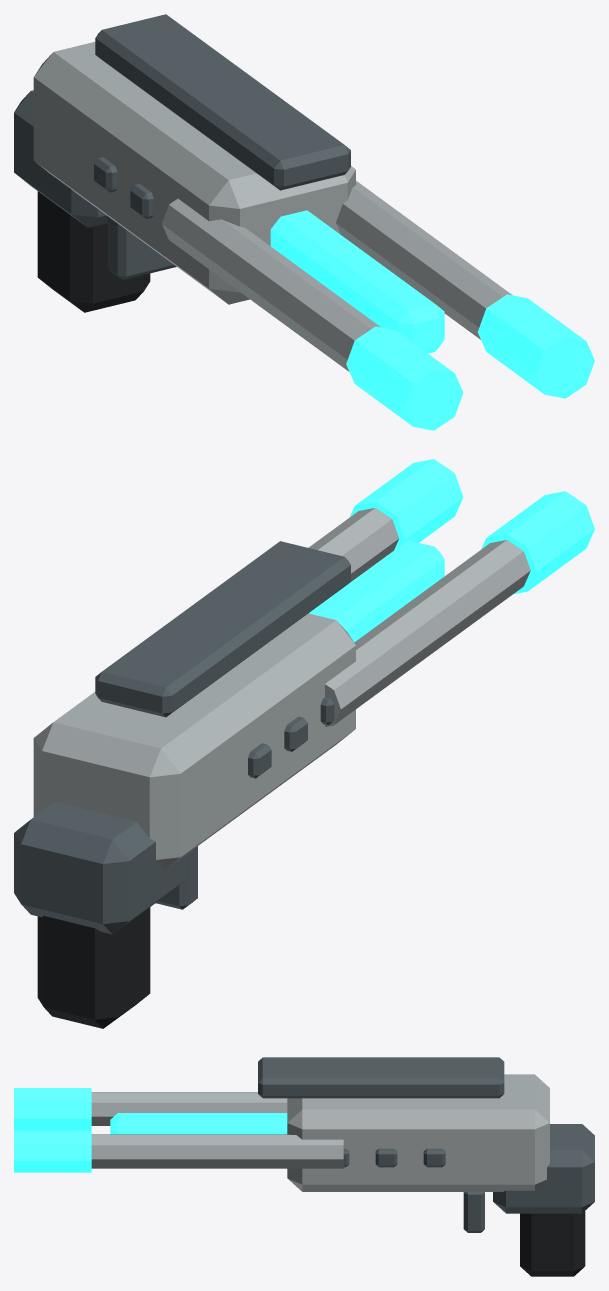
File: ion-lance.glb
3 views of the same model, one above another, from view 1: azimuth 30°, elevation 25°; view 2: azimuth 150°, elevation 25°; view 3: azimuth 270°, elevation 25° (orthographic). The views are drawn at different scales.
Visible parts, largest first — view 1: Weapon_Body | Campaign compact armory, Weapon_Body | Population luminous cyan; view 2: Weapon_Body | Campaign compact armory, Weapon_Body | Population luminous cyan; view 3: Weapon_Body | Campaign compact armory, Weapon_Body | Population luminous cyan.
Boxes of the visible parts, x1,y1,x2,y2 form: Weapon_Body | Campaign compact armory: [14, 14, 512, 371]; Weapon_Body | Population luminous cyan: [270, 210, 594, 430]; Weapon_Body | Campaign compact armory: [14, 508, 530, 1028]; Weapon_Body | Population luminous cyan: [309, 459, 594, 642]; Weapon_Body | Campaign compact armory: [91, 1057, 594, 1276]; Weapon_Body | Population luminous cyan: [14, 1088, 287, 1172].
Bounding box in the file's own units: 0.272 × 0.4125 × 1.08.
